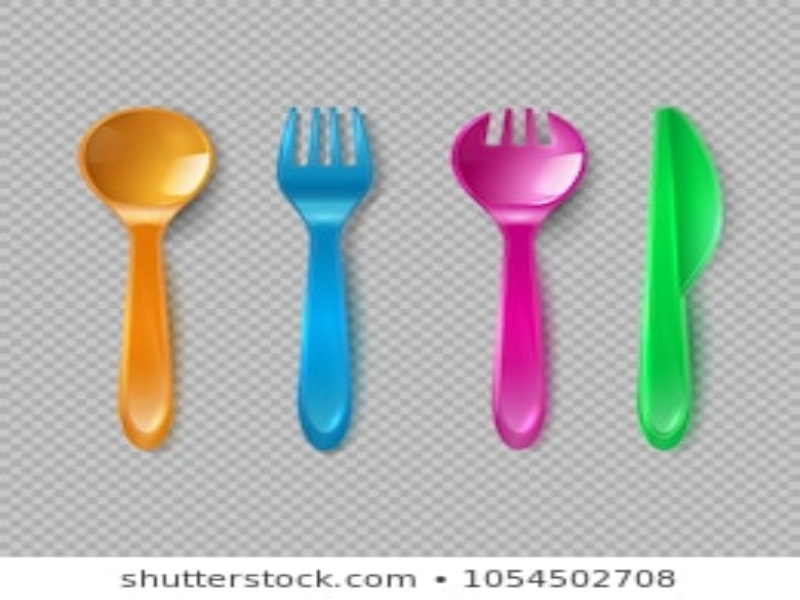plastic-silverware: (78, 107, 218, 452), (448, 104, 588, 449), (275, 105, 375, 452), (639, 105, 725, 450)
